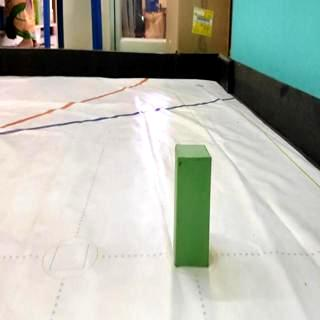greenbox: (174, 143, 212, 267)
